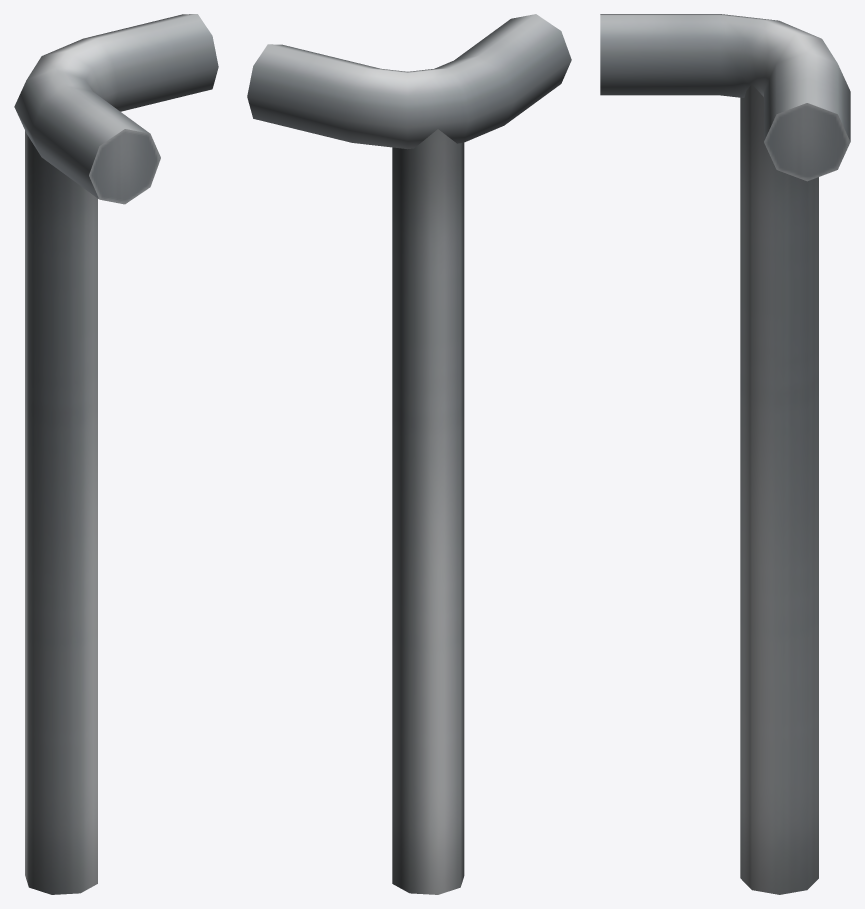
The model's file is set_handrail_straight_corner.fbx.
3 renders of one model, left to right at view 1: azimuth 30°, elevation 25°; view 2: azimuth 150°, elevation 25°; view 3: azimuth 270°, elevation 25°, orthographic. The views are drawn at different scales.
Visible parts, largest first — view 1: set_handrail_straight_corner; view 2: set_handrail_straight_corner; view 3: set_handrail_straight_corner.
Boxes of the visible parts, box(x1,y1,x2,y2) form: set_handrail_straight_corner: box(14, 14, 218, 894); set_handrail_straight_corner: box(247, 14, 571, 894); set_handrail_straight_corner: box(600, 14, 850, 894).
Size of the model in its own units: 18.14 by 68.15 by 18.15.
